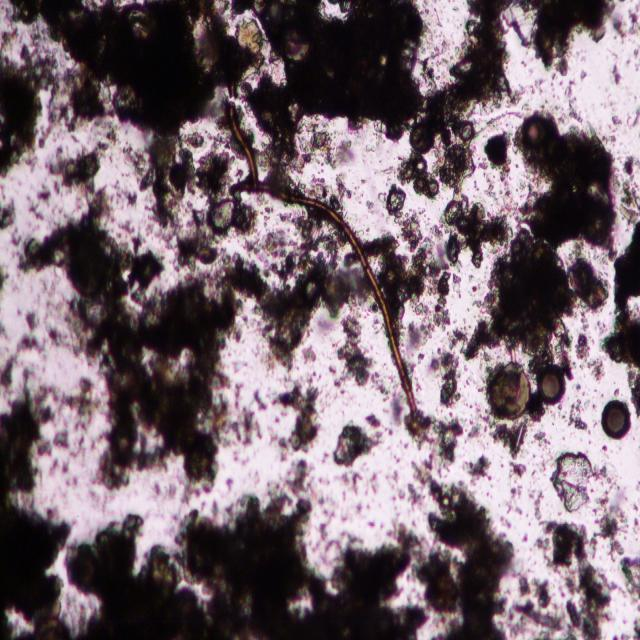Background material: (4, 191, 242, 498), (70, 500, 427, 639), (5, 0, 261, 133), (488, 132, 616, 369), (260, 2, 426, 135), (406, 0, 516, 184), (0, 384, 69, 640), (417, 464, 514, 638), (224, 258, 382, 362), (146, 128, 256, 261), (369, 220, 453, 341), (543, 514, 617, 639), (516, 1, 622, 71), (262, 106, 351, 185), (604, 217, 640, 412), (0, 45, 44, 180), (258, 204, 342, 262), (442, 200, 508, 262), (272, 384, 324, 454), (404, 409, 464, 465), (523, 76, 590, 126), (513, 571, 565, 635), (227, 379, 271, 453), (45, 143, 98, 197), (550, 451, 596, 510), (338, 316, 374, 390), (46, 378, 100, 426), (334, 422, 383, 470), (591, 504, 632, 560), (428, 348, 464, 408), (459, 314, 499, 359), (618, 148, 640, 227), (490, 417, 528, 460), (308, 505, 344, 549), (283, 459, 320, 500), (336, 469, 378, 505), (404, 459, 432, 510), (574, 332, 604, 379), (19, 312, 48, 357), (383, 180, 410, 222), (619, 553, 640, 605), (124, 139, 147, 183), (466, 448, 492, 485), (383, 386, 405, 427), (93, 125, 119, 159), (0, 193, 20, 231), (0, 352, 18, 390), (568, 400, 588, 433), (620, 10, 640, 40), (526, 429, 549, 454), (51, 428, 72, 452), (532, 490, 546, 523), (510, 456, 525, 480), (367, 412, 382, 433), (0, 269, 8, 304), (612, 64, 622, 87)
Diatom: (488, 362, 530, 417), (278, 27, 312, 63), (602, 399, 630, 440), (540, 368, 566, 406), (70, 555, 94, 596), (520, 117, 548, 150), (36, 619, 70, 638), (412, 156, 428, 173), (426, 180, 441, 195), (462, 124, 472, 139)
Natural material: (226, 105, 417, 414)
